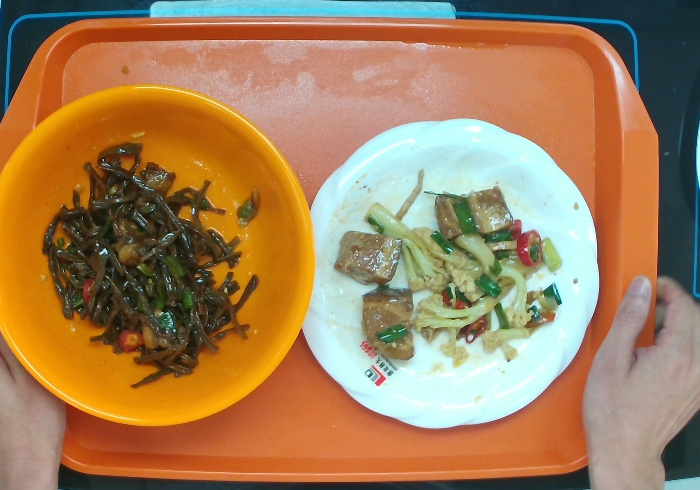ZNLD-Hua_Bian_Wan: (298, 117, 602, 430)
ZNLD-Ju_Se_Tang_Wan: (2, 82, 314, 424)
